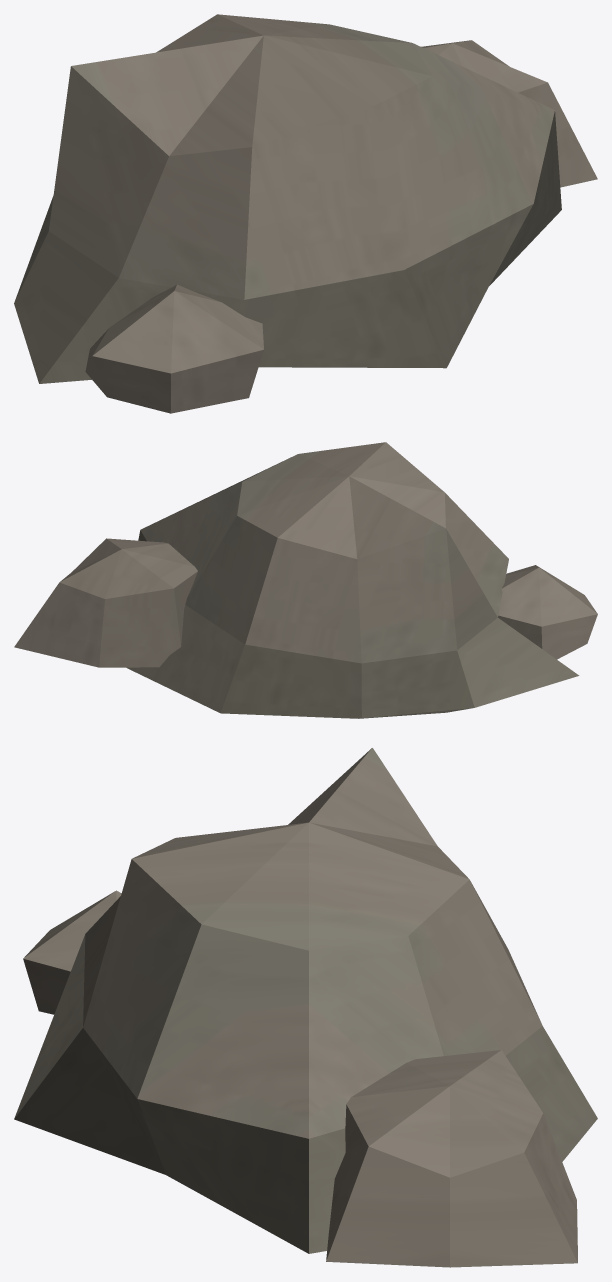
Rendered from rock_small_01.glb.
3 views of the same model, one above another, from view 1: azimuth 30°, elevation 25°; view 2: azimuth 150°, elevation 25°; view 3: azimuth 270°, elevation 25° (orthographic). The views are drawn at different scales.
Parts seen in each view (by area): view 1: rock_small_01; view 2: rock_small_01; view 3: rock_small_01.
Part boxes in pixels (left/top/right/bottom): rock_small_01: left=14, top=14, right=597, bottom=413; rock_small_01: left=14, top=442, right=597, bottom=718; rock_small_01: left=14, top=748, right=597, bottom=1267.
Bounding box in the file's own units: 1.24 × 0.5106 × 0.91.
3 materials, 3 textured.
